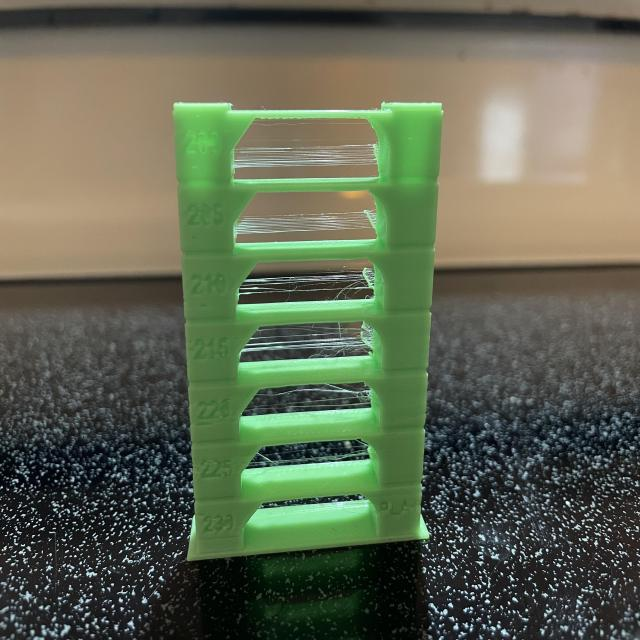Stringing: (239, 324, 374, 354), (236, 146, 377, 170), (236, 270, 378, 293), (234, 212, 376, 234)
